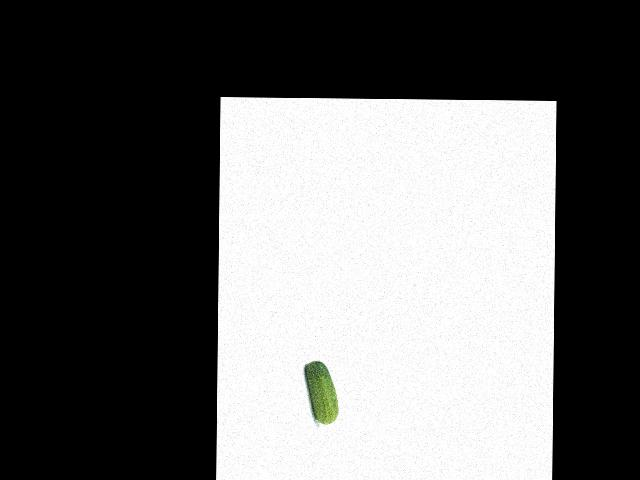cucumber: (304, 360, 338, 424)
